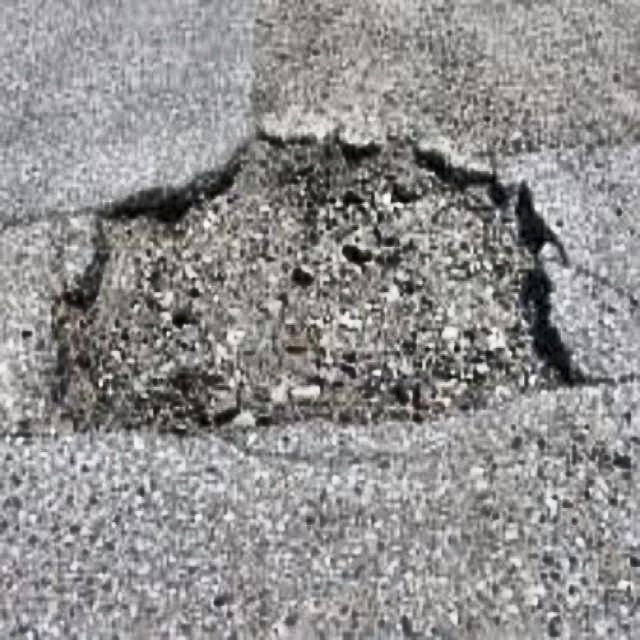Pothole: (39, 118, 586, 440)
